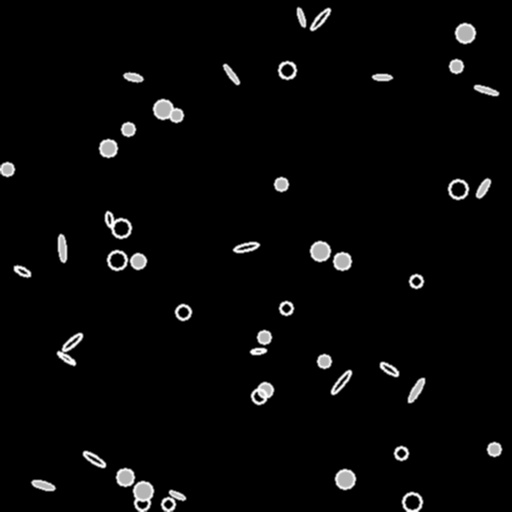pseudomonas: (329, 369, 353, 395), (309, 7, 331, 31), (406, 377, 426, 403), (61, 331, 83, 353), (82, 450, 106, 468), (474, 177, 492, 199), (222, 64, 240, 84), (56, 350, 76, 366), (379, 361, 399, 377), (473, 84, 499, 96), (31, 479, 55, 491), (234, 241, 258, 253), (57, 235, 67, 261), (13, 264, 31, 278), (123, 71, 143, 83), (296, 7, 306, 27), (169, 489, 185, 501), (105, 211, 113, 227), (373, 74, 391, 80), (250, 348, 266, 354)
synechocystis: (154, 100, 172, 118), (456, 24, 474, 42), (108, 251, 126, 269), (311, 242, 329, 260), (134, 482, 152, 500), (403, 493, 421, 511), (112, 219, 130, 237), (336, 470, 354, 488), (449, 180, 467, 198), (334, 253, 350, 269), (117, 469, 133, 485), (279, 62, 295, 78), (100, 140, 116, 156), (258, 383, 272, 397), (176, 305, 190, 319), (131, 254, 145, 268), (135, 496, 149, 510), (252, 389, 266, 403), (162, 498, 174, 510), (318, 355, 330, 367), (488, 443, 500, 455), (410, 275, 422, 287), (170, 109, 182, 121), (280, 302, 292, 314), (258, 331, 270, 343), (275, 178, 287, 190), (122, 123, 134, 135), (395, 447, 407, 459), (1, 163, 13, 175), (450, 60, 462, 72)
